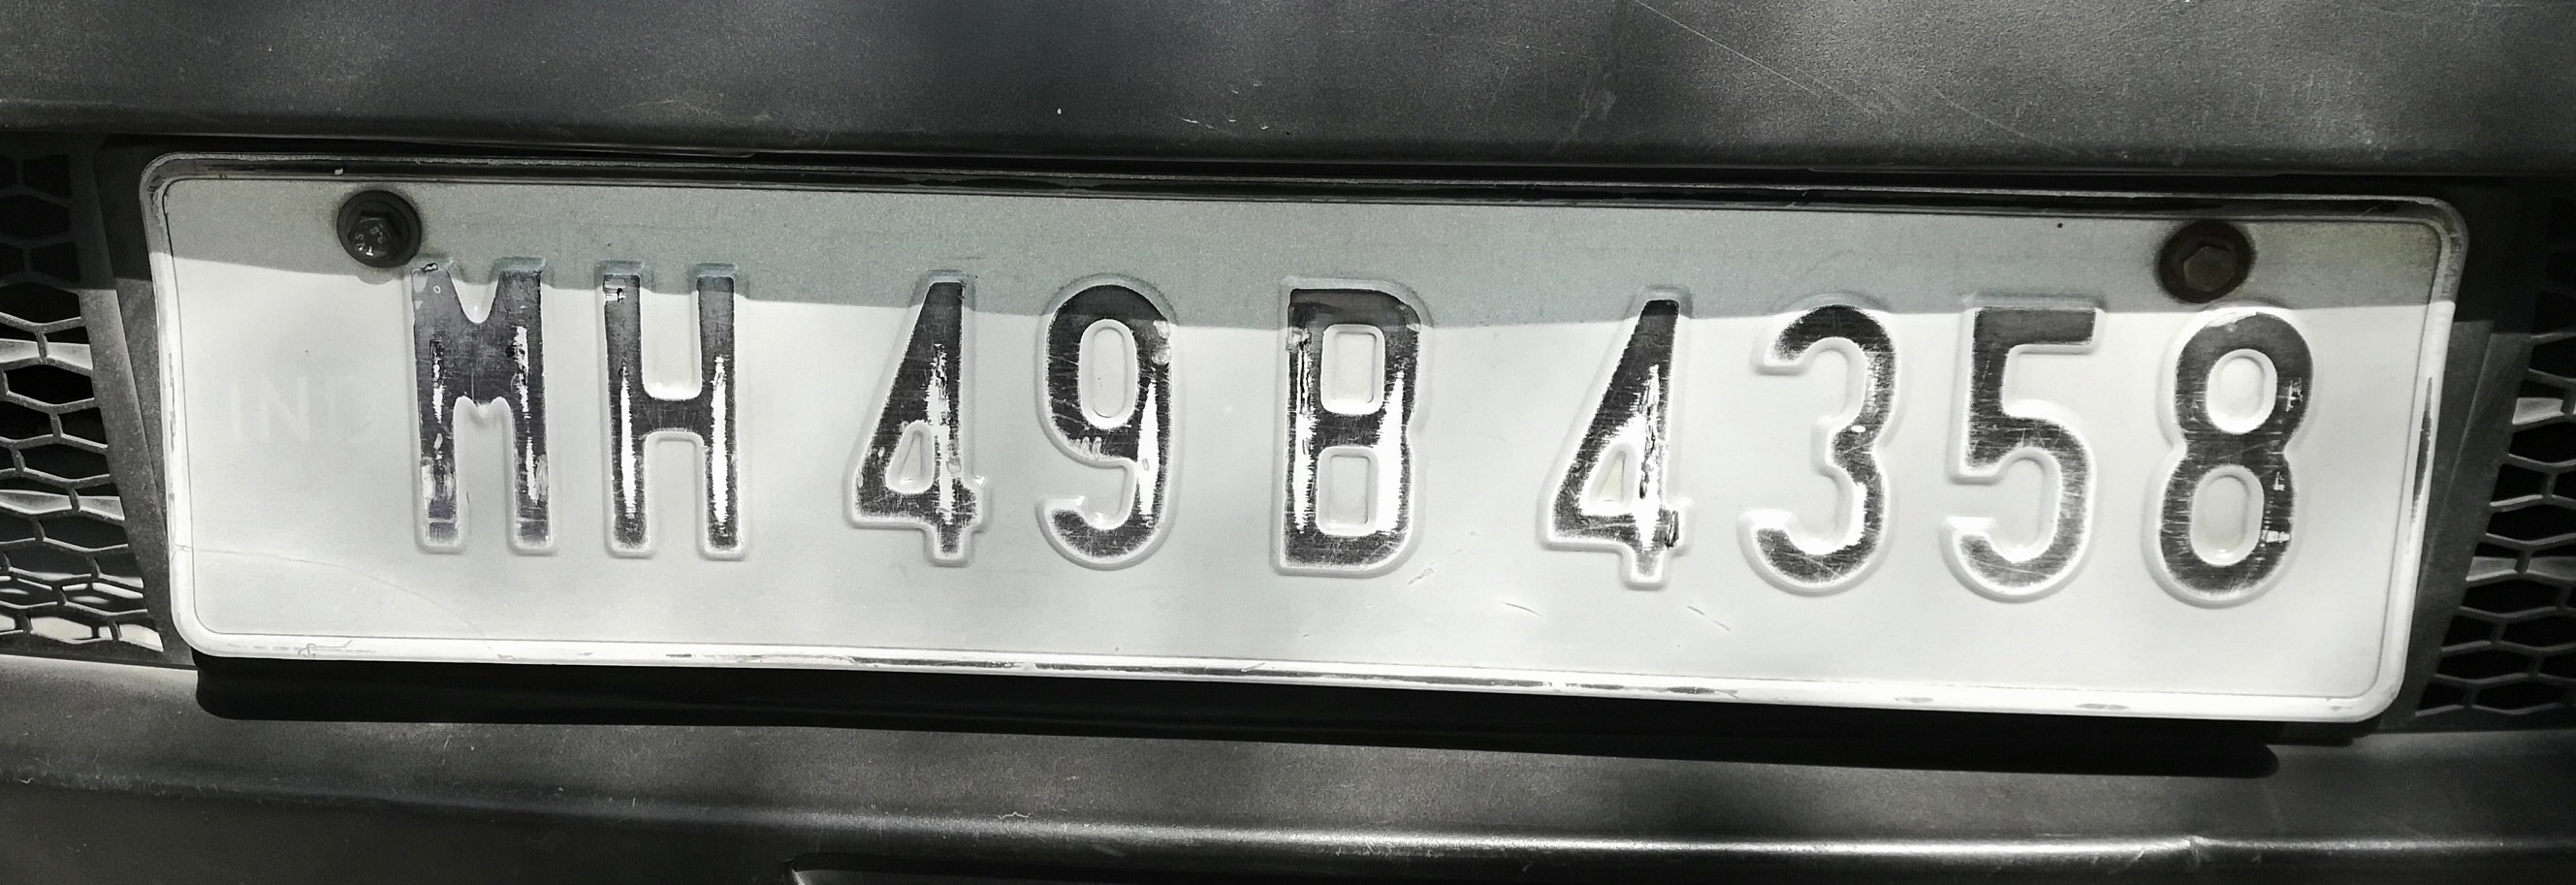numberplate: (132, 151, 2462, 718)
